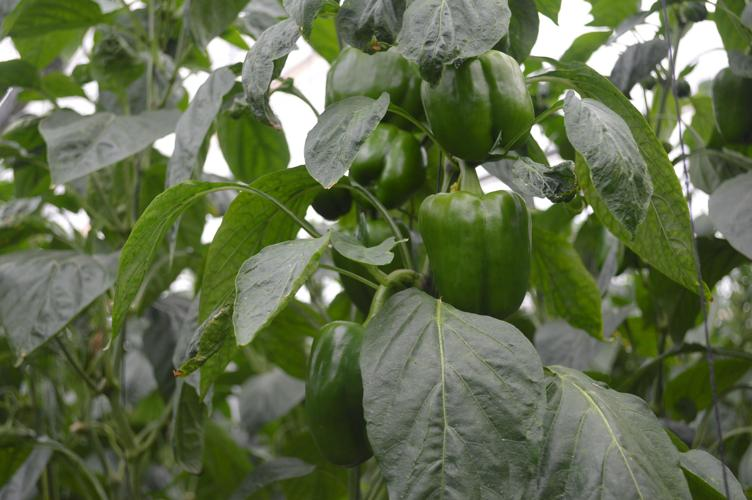BellPepper: (423, 190, 530, 323), (421, 50, 535, 163), (300, 321, 370, 466), (324, 47, 421, 126), (332, 219, 415, 303), (354, 129, 422, 201)
